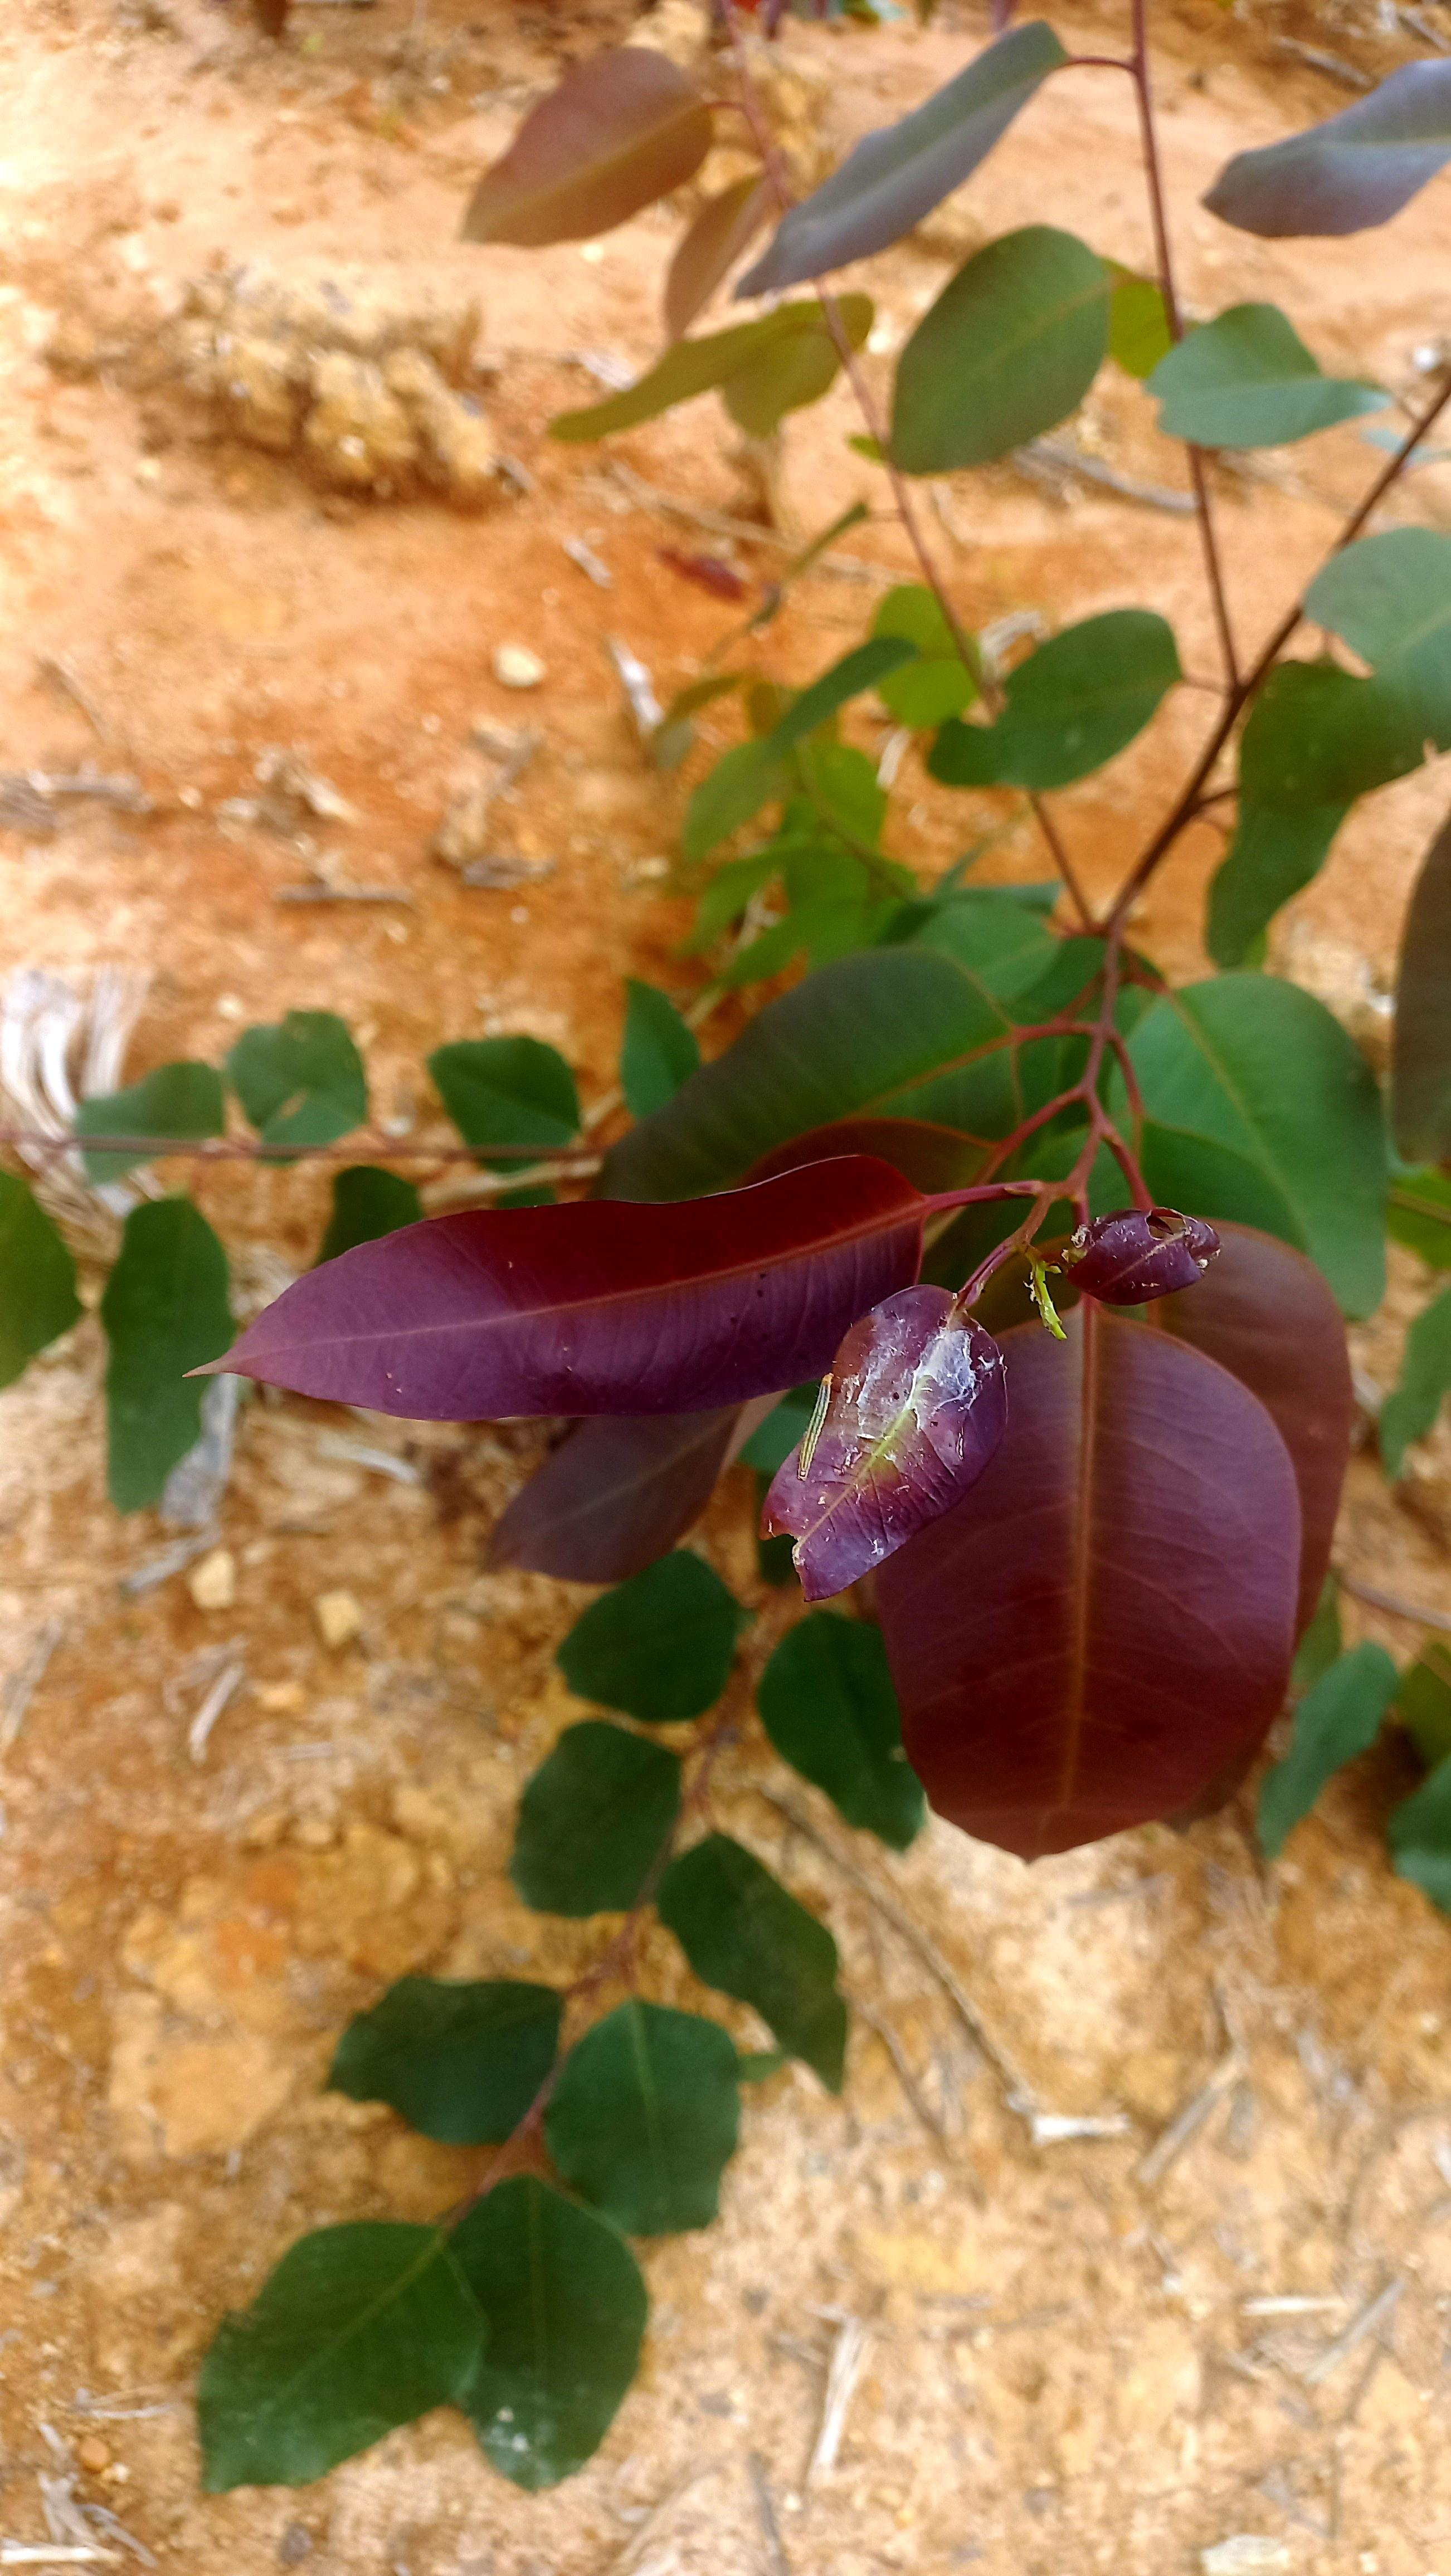Leaf Roller - Insect: (789, 1364, 841, 1483)
Leaf Roller - Leaf: (754, 1279, 1007, 1601), (1032, 1198, 1219, 1307)
